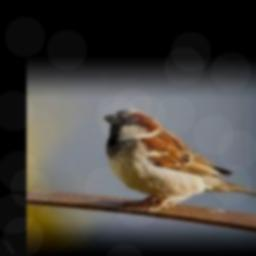Sparrow: (103, 109, 256, 211)
